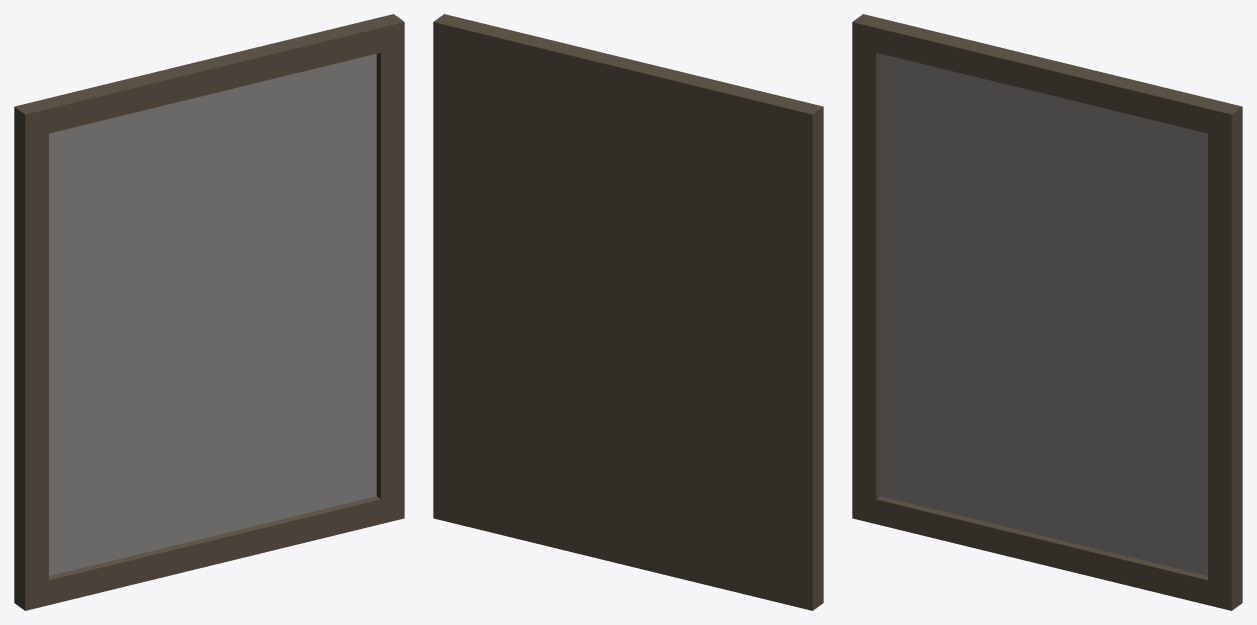
The model's file is SM_Props_Interior_House_Room_Photo_01.fbx.
3 renders of one model, left to right at view 1: azimuth 30°, elevation 25°; view 2: azimuth 150°, elevation 25°; view 3: azimuth 330°, elevation 25°, orthographic.
Visible parts, largest first — view 1: SM_Props_Interior_House_Room_Photo_01; view 2: SM_Props_Interior_House_Room_Photo_01; view 3: SM_Props_Interior_House_Room_Photo_01.
Boxes of the visible parts, left/top/right/bottom form: SM_Props_Interior_House_Room_Photo_01: left=14, top=14, right=404, bottom=610; SM_Props_Interior_House_Room_Photo_01: left=433, top=14, right=823, bottom=610; SM_Props_Interior_House_Room_Photo_01: left=852, top=14, right=1242, bottom=610.
Bounding box in the file's own units: 40 × 50 × 2.
